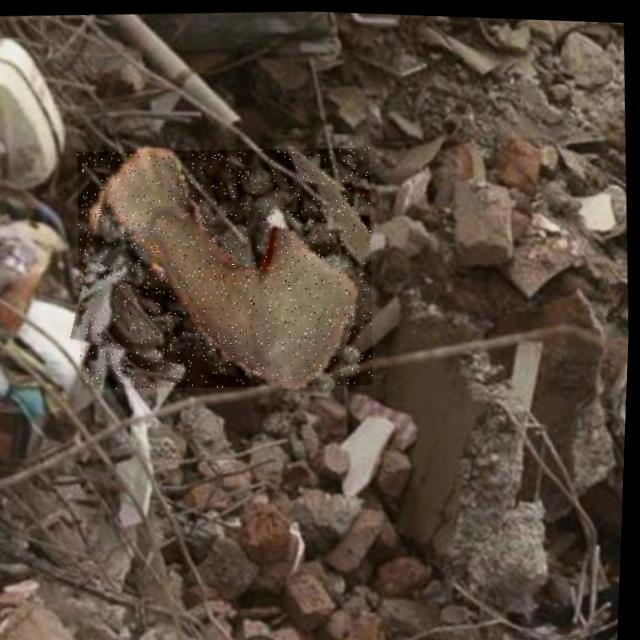Person in Rubble: (71, 136, 383, 397)
